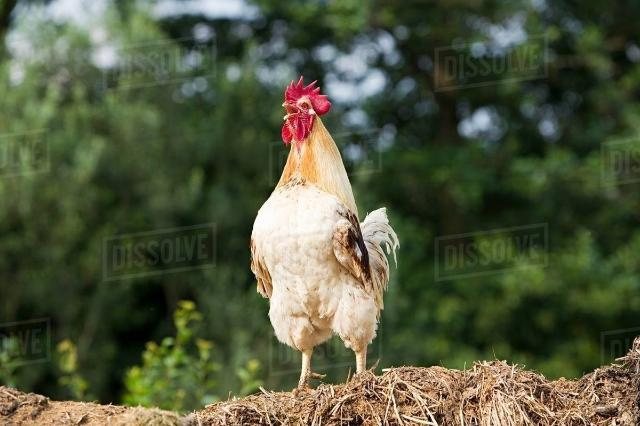Chicken: (250, 76, 398, 397)
